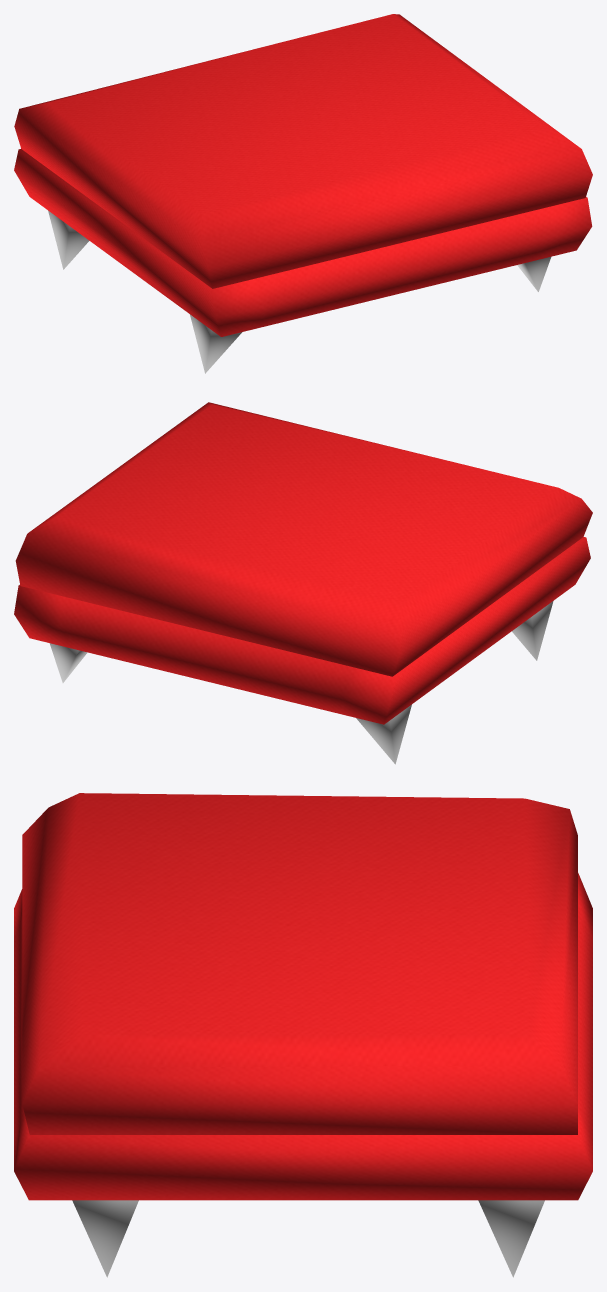
Rendered from Ottoman_A_14.FBX.
The picture shows the model from 3 angles, top to bottom: view 1: azimuth 30°, elevation 25°; view 2: azimuth 150°, elevation 25°; view 3: azimuth 270°, elevation 25°; orthographic projection. The views are drawn at different scales.
Parts seen in each view (by area): view 1: Ottoman; view 2: Ottoman; view 3: Ottoman.
Boxes of the visible parts, box(x1,y1,x2,y2) form: Ottoman: box(14, 14, 592, 373); Ottoman: box(14, 402, 592, 764); Ottoman: box(14, 793, 592, 1277).
Bounding box in the file's own units: 190 × 80.28 × 173.
